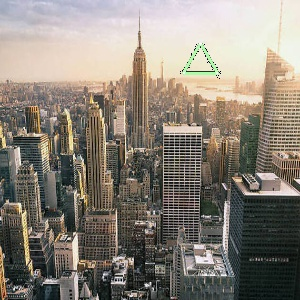triangle: (174, 40, 225, 81)
